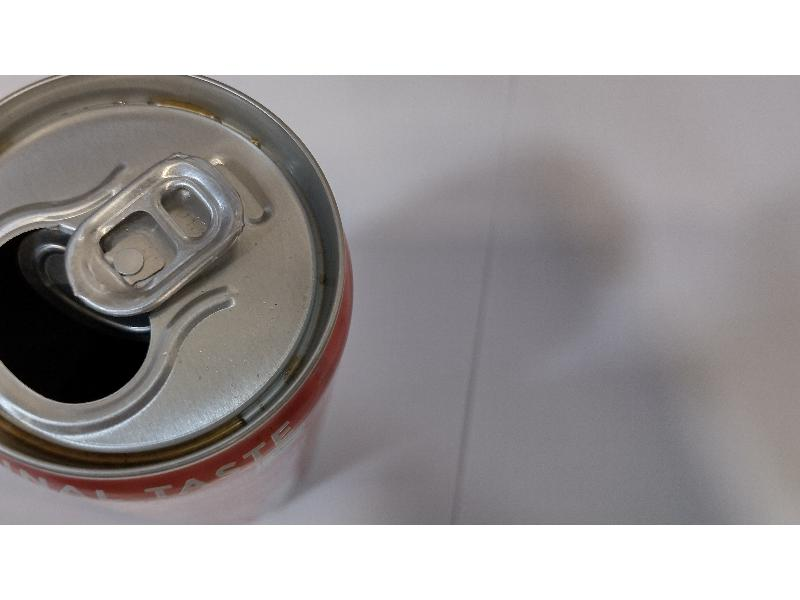can: (3, 73, 363, 517)
